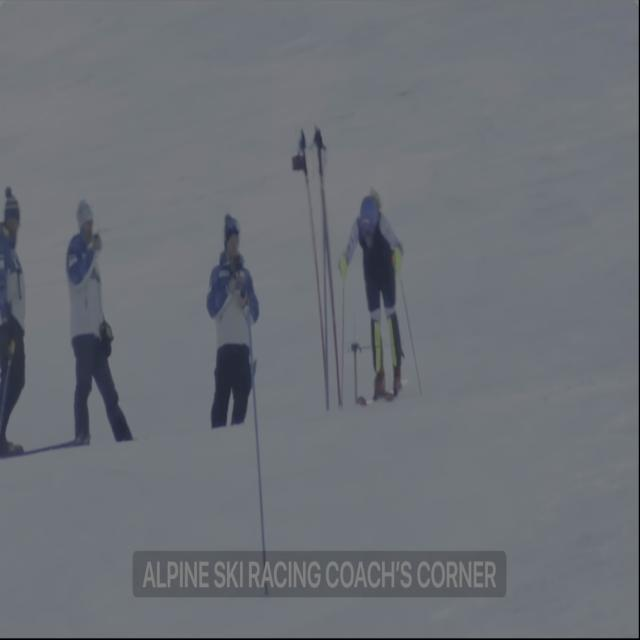gate: (236, 271, 279, 602)
